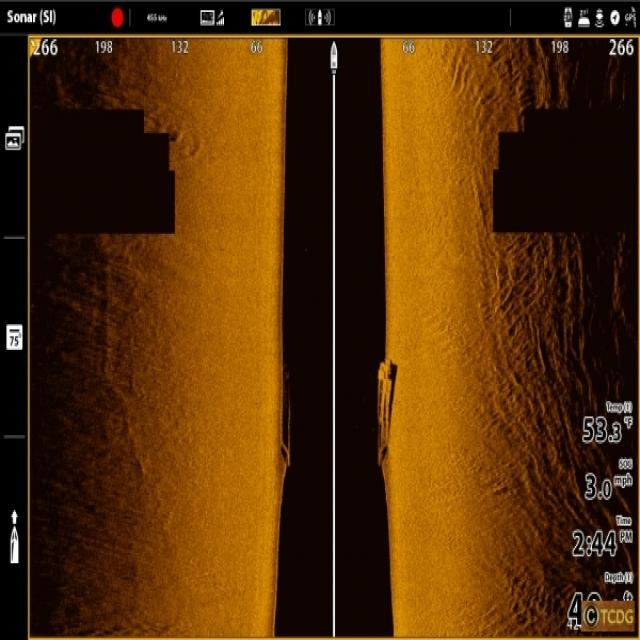ship: (371, 352, 403, 469)
